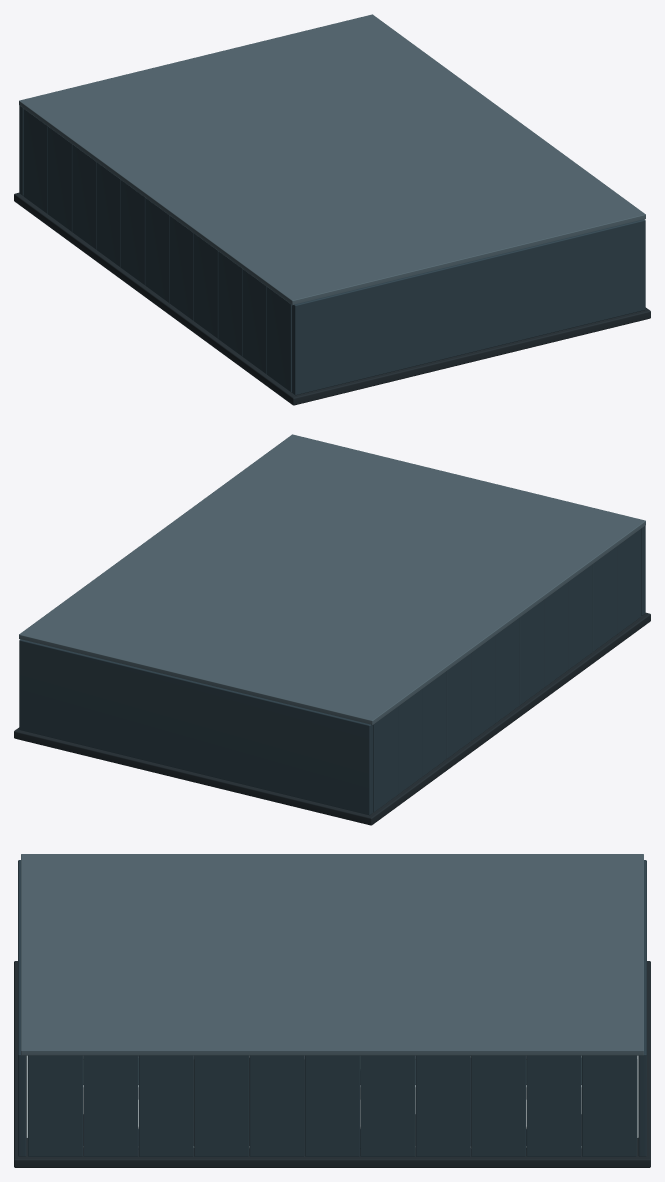
Rendered from hi3d-lab-architecture.glb.
3 renders of one model, top to bottom at view 1: azimuth 30°, elevation 25°; view 2: azimuth 150°, elevation 25°; view 3: azimuth 270°, elevation 25°, orthographic. The views are drawn at different scales.
Parts seen in each view (by area): view 1: Lab_Ceiling, Lab_NavyFrame, Lab_GraphiteTrim; view 2: Lab_Ceiling, Lab_NavyFrame, Lab_GraphiteTrim; view 3: Lab_Ceiling, Lab_NavyFrame, Lab_GraphiteTrim, Lab_IvoryPanels.
Part boxes in pixels (x1,y1,x2,y2): Lab_Ceiling: (19, 14, 645, 305); Lab_NavyFrame: (19, 106, 645, 395); Lab_GraphiteTrim: (14, 192, 650, 405); Lab_Ceiling: (19, 434, 645, 725); Lab_NavyFrame: (19, 526, 645, 815); Lab_GraphiteTrim: (14, 612, 650, 825); Lab_Ceiling: (21, 854, 643, 1059); Lab_NavyFrame: (18, 860, 646, 1156); Lab_GraphiteTrim: (14, 961, 650, 1167); Lab_IvoryPanels: (26, 1055, 638, 1137).
Size of the model in its own units: 17 by 4.66 by 23.
